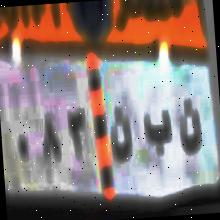0: (12, 128, 34, 178)
3: (65, 98, 93, 165)
8: (38, 108, 64, 178)
baa: (142, 99, 176, 156)
noon: (106, 97, 136, 174), (176, 92, 206, 164)
